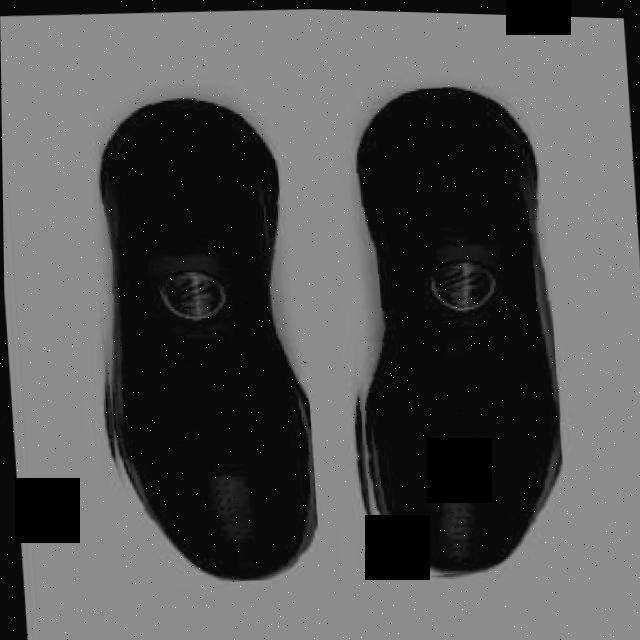shoe: (329, 77, 568, 581), (83, 80, 320, 588)
